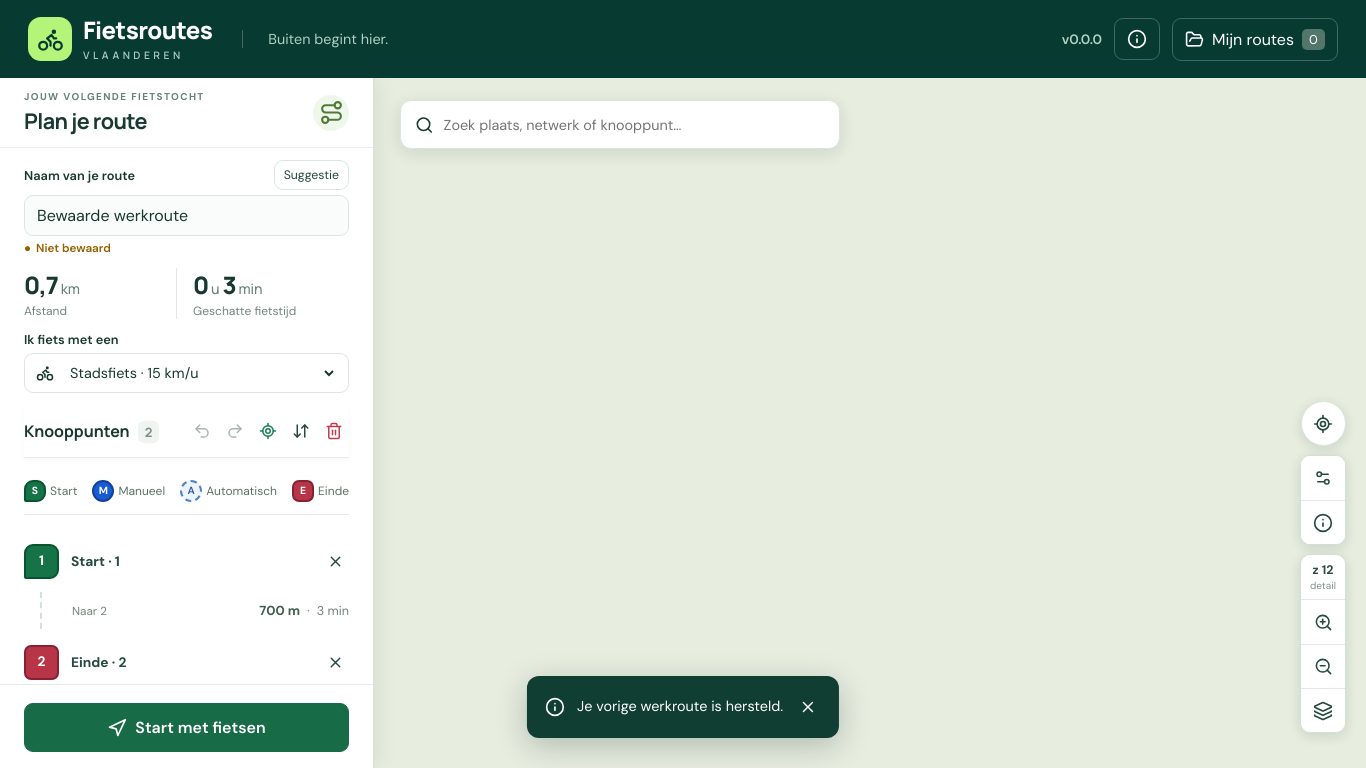
Test: schakelt toerisme onafhankelijk van de kaartlaag en herstelt de voorkeur
Later steps or results of the test are not shown.
Step 1. Click the button named "Toerisme" → (1323, 522), box [1301,500,1345,544]
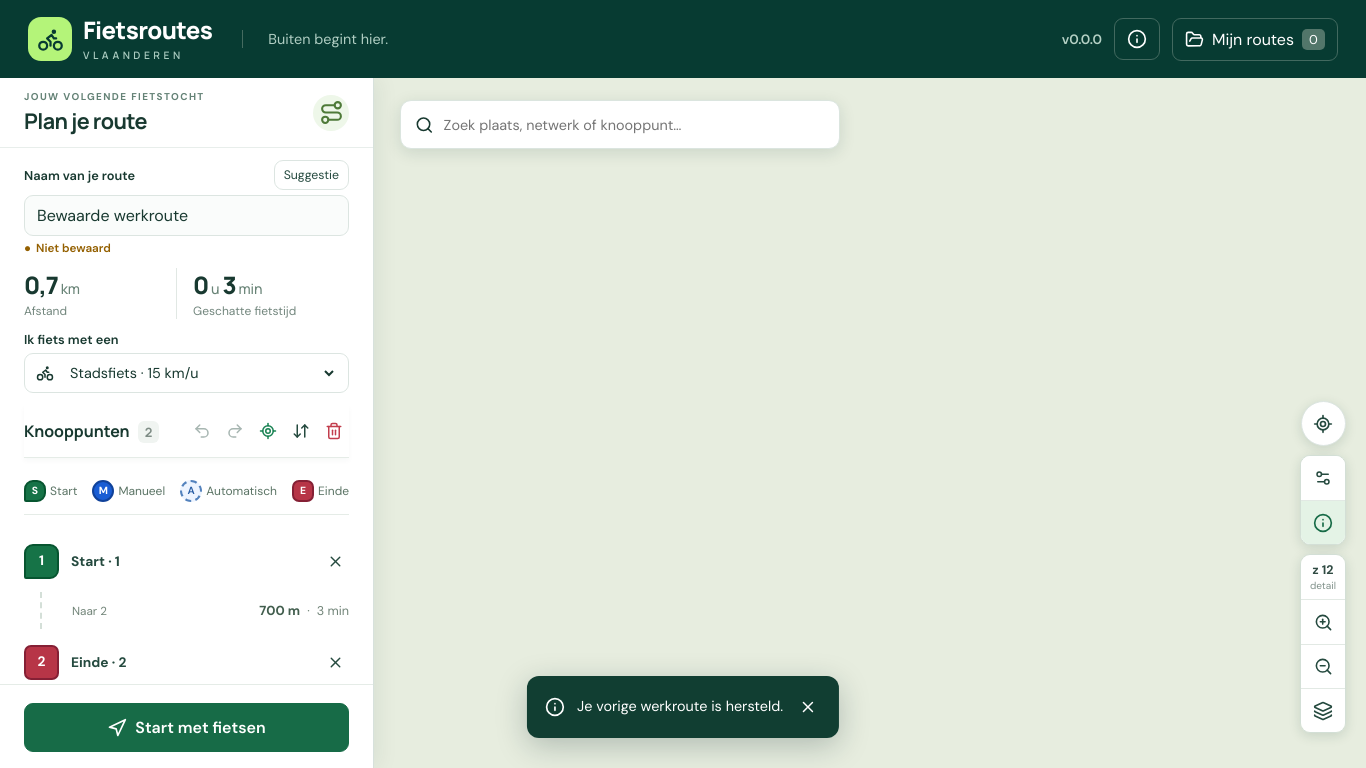
Expected: the button named "Toerisme" is pressed, [1301,500,1345,544]
